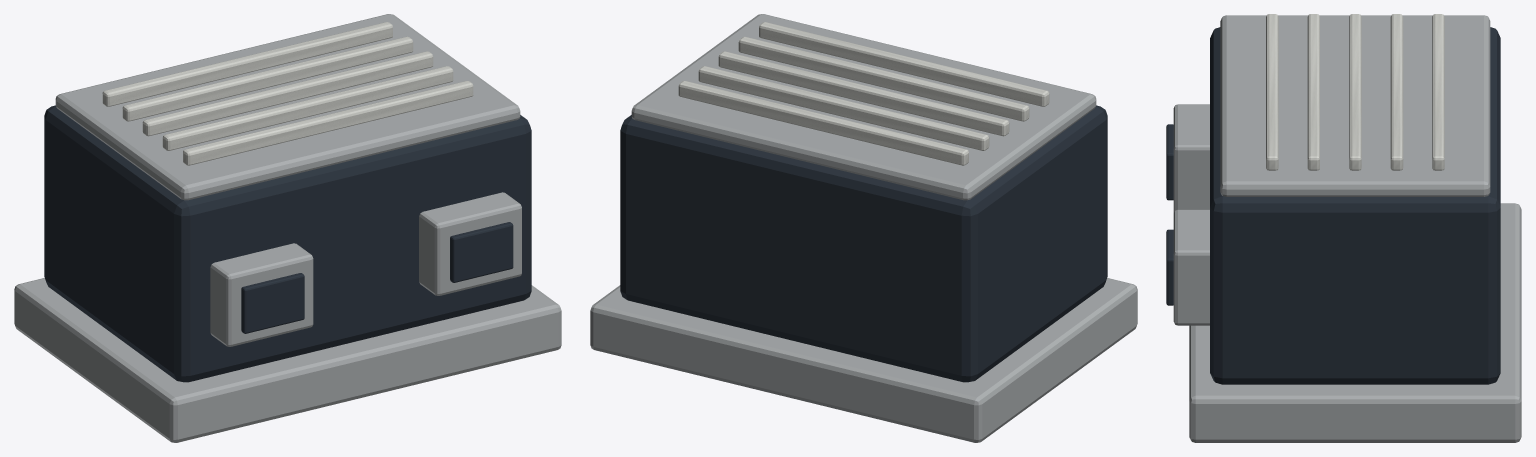
The model's file is space_data_recorder.glb.
3 renders of one model, left to right at view 1: azimuth 30°, elevation 25°; view 2: azimuth 150°, elevation 25°; view 3: azimuth 270°, elevation 25°, orthographic. The views are drawn at different scales.
Parts seen in each view (by area): view 1: Recorder_Housing, Recorder_Mount, Recorder_Lid, Data_Connector.003, Data_Connector.004, Recorder_Rib.001, Recorder_Rib.002, Recorder_Rib.003, Recorder_Rib, Recorder_Rib.004, Connector_Face, Connector_Face.001; view 2: Recorder_Housing, Recorder_Mount, Recorder_Lid, Recorder_Rib.003, Recorder_Rib.001, Recorder_Rib.002, Recorder_Rib.004, Recorder_Rib; view 3: Recorder_Housing, Recorder_Lid, Recorder_Mount, Data_Connector.004, Data_Connector.003, Recorder_Rib.003, Recorder_Rib, Recorder_Rib.004, Recorder_Rib.002, Recorder_Rib.001, Connector_Face, Connector_Face.001.
Part boxes in pixels (x1,y1,x2,y2): Recorder_Housing: [44, 105, 531, 382]; Recorder_Mount: [14, 278, 561, 442]; Recorder_Lid: [55, 14, 520, 200]; Data_Connector.003: [210, 243, 313, 346]; Data_Connector.004: [419, 192, 521, 295]; Recorder_Rib.001: [162, 66, 453, 150]; Recorder_Rib.002: [142, 51, 433, 136]; Recorder_Rib.003: [122, 36, 413, 121]; Recorder_Rib: [183, 81, 473, 165]; Recorder_Rib.004: [102, 22, 392, 106]; Connector_Face: [241, 273, 304, 333]; Connector_Face.001: [450, 222, 513, 282]; Recorder_Housing: [620, 105, 1107, 382]; Recorder_Mount: [590, 278, 1137, 442]; Recorder_Lid: [631, 14, 1096, 200]; Recorder_Rib.003: [698, 66, 989, 150]; Recorder_Rib.001: [738, 36, 1029, 121]; Recorder_Rib.002: [718, 51, 1009, 136]; Recorder_Rib.004: [678, 81, 968, 165]; Recorder_Rib: [759, 22, 1049, 106]; Recorder_Housing: [1210, 27, 1500, 384]; Recorder_Lid: [1220, 15, 1490, 196]; Recorder_Mount: [1189, 203, 1521, 442]; Data_Connector.004: [1173, 209, 1209, 325]; Data_Connector.003: [1173, 104, 1209, 212]; Recorder_Rib.003: [1390, 14, 1403, 170]; Recorder_Rib: [1266, 14, 1278, 170]; Recorder_Rib.004: [1432, 14, 1444, 170]; Recorder_Rib.002: [1349, 14, 1361, 170]; Recorder_Rib.001: [1307, 14, 1319, 170]; Connector_Face: [1166, 124, 1173, 200]; Connector_Face.001: [1166, 229, 1173, 305].
Size of the model in its own units: 0.45 by 0.278 by 0.342.
3 materials, 1 textured.
